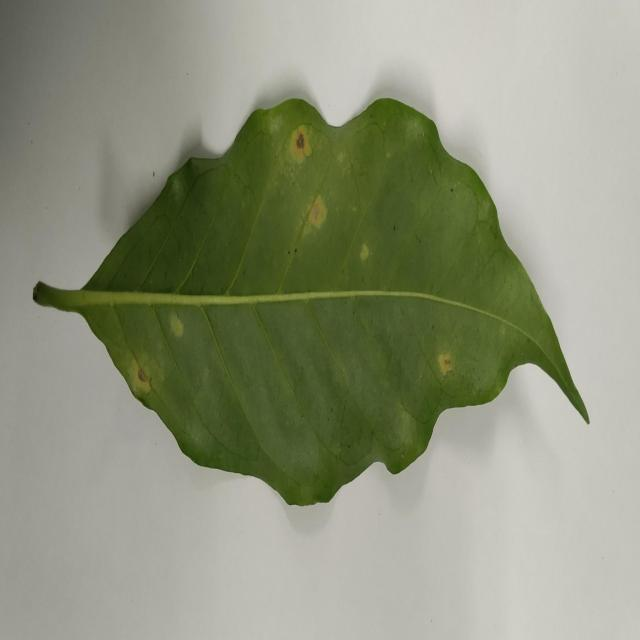Enfermedad-Roya: (32, 98, 590, 509)
